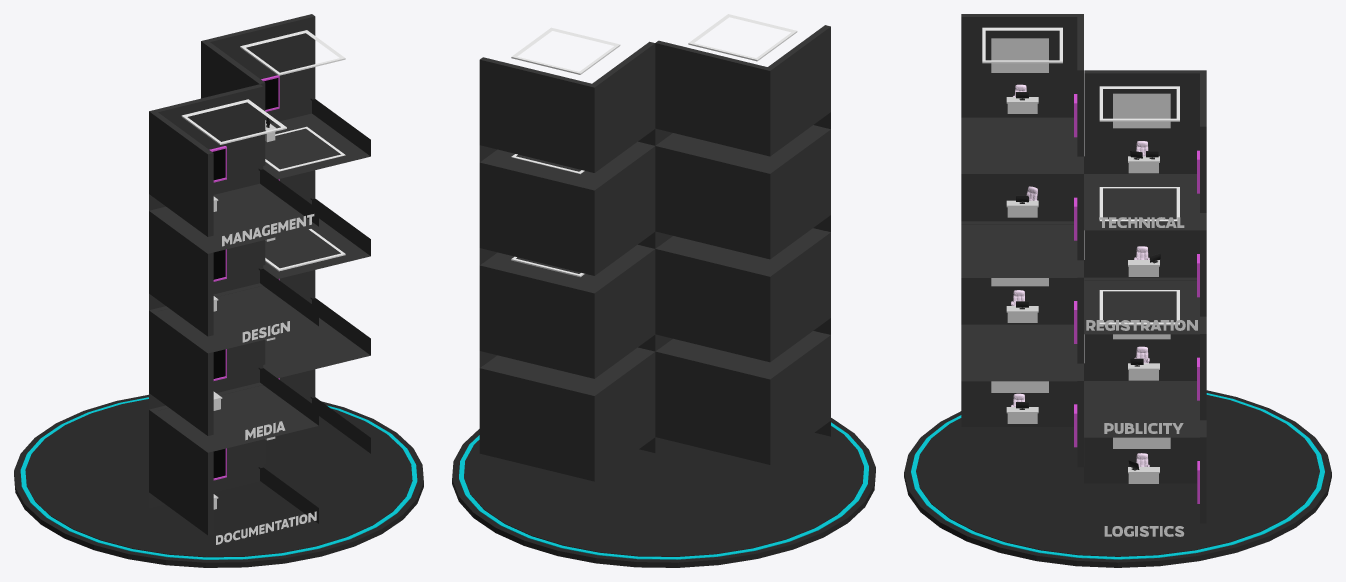
File: towerss.glb
3 renders of one model, left to right at view 1: azimuth 30°, elevation 25°; view 2: azimuth 150°, elevation 25°; view 3: azimuth 270°, elevation 25°, orthographic. The views are drawn at different scales.
Parts seen in each view (by area): view 1: Main_Structure, Upper_Black_Base, Bottom_Black_Base, Middle_Cyan_Base, Light_12, Light_11, Management_svg, Documentation_svg; view 2: Main_Structure, Upper_Black_Base, Bottom_Black_Base, Middle_Cyan_Base, Light_12, Light_11; view 3: Main_Structure, Upper_Black_Base, Bottom_Black_Base, Middle_Cyan_Base, Screen_Technical, Screen_Management, Registration_svg, Light_11, Light_12, Screen_Logistic, Screen_Documentation, Technical_svg (+5 smaller).
Part boxes in pixels (bbox=[...]): Main_Structure: bbox=[149, 14, 370, 535]; Upper_Black_Base: bbox=[25, 399, 412, 557]; Bottom_Black_Base: bbox=[14, 394, 423, 567]; Middle_Cyan_Base: bbox=[20, 397, 417, 559]; Light_12: bbox=[240, 30, 345, 75]; Light_11: bbox=[181, 99, 286, 144]; Management_svg: bbox=[222, 214, 314, 246]; Documentation_svg: bbox=[216, 511, 316, 544]; Main_Structure: bbox=[479, 25, 830, 481]; Upper_Black_Base: bbox=[464, 426, 863, 556]; Bottom_Black_Base: bbox=[452, 418, 875, 567]; Middle_Cyan_Base: bbox=[459, 422, 868, 559]; Light_12: bbox=[511, 27, 620, 74]; Light_11: bbox=[688, 14, 797, 61]; Main_Structure: bbox=[961, 14, 1206, 523]; Upper_Black_Base: bbox=[916, 395, 1319, 556]; Bottom_Black_Base: bbox=[904, 390, 1331, 567]; Middle_Cyan_Base: bbox=[911, 393, 1324, 559]; Screen_Technical: bbox=[1113, 93, 1170, 128]; Screen_Management: bbox=[991, 38, 1048, 72]; Registration_svg: bbox=[1086, 320, 1197, 330]; Light_11: bbox=[982, 27, 1062, 63]; Light_12: bbox=[1099, 86, 1179, 121]; Screen_Logistic: bbox=[1113, 437, 1170, 448]; Screen_Documentation: bbox=[991, 381, 1048, 392]; Technical_svg: bbox=[1099, 217, 1184, 227].
Size of the model in its own units: 40.49 by 43.85 by 40.49.
